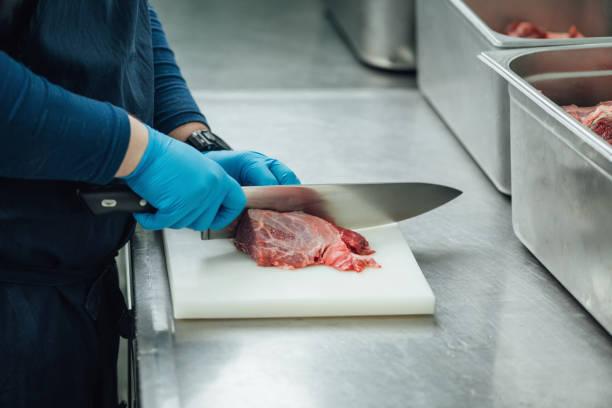knife: (74, 181, 465, 242)
